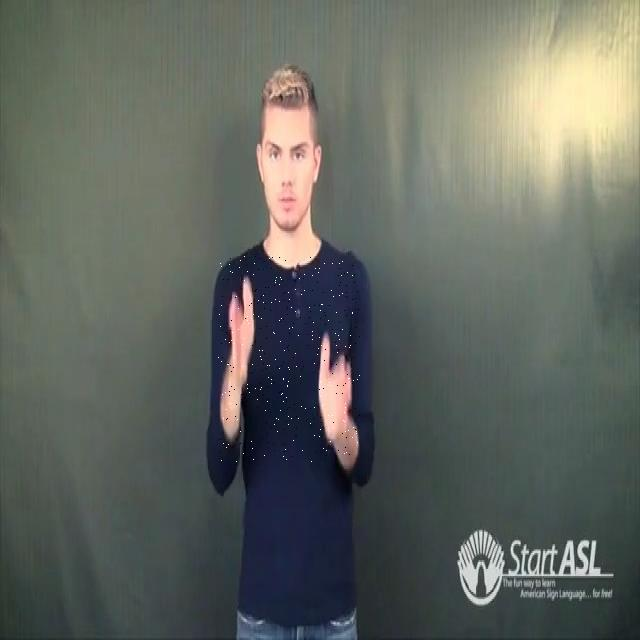manager: (218, 256, 360, 462)
